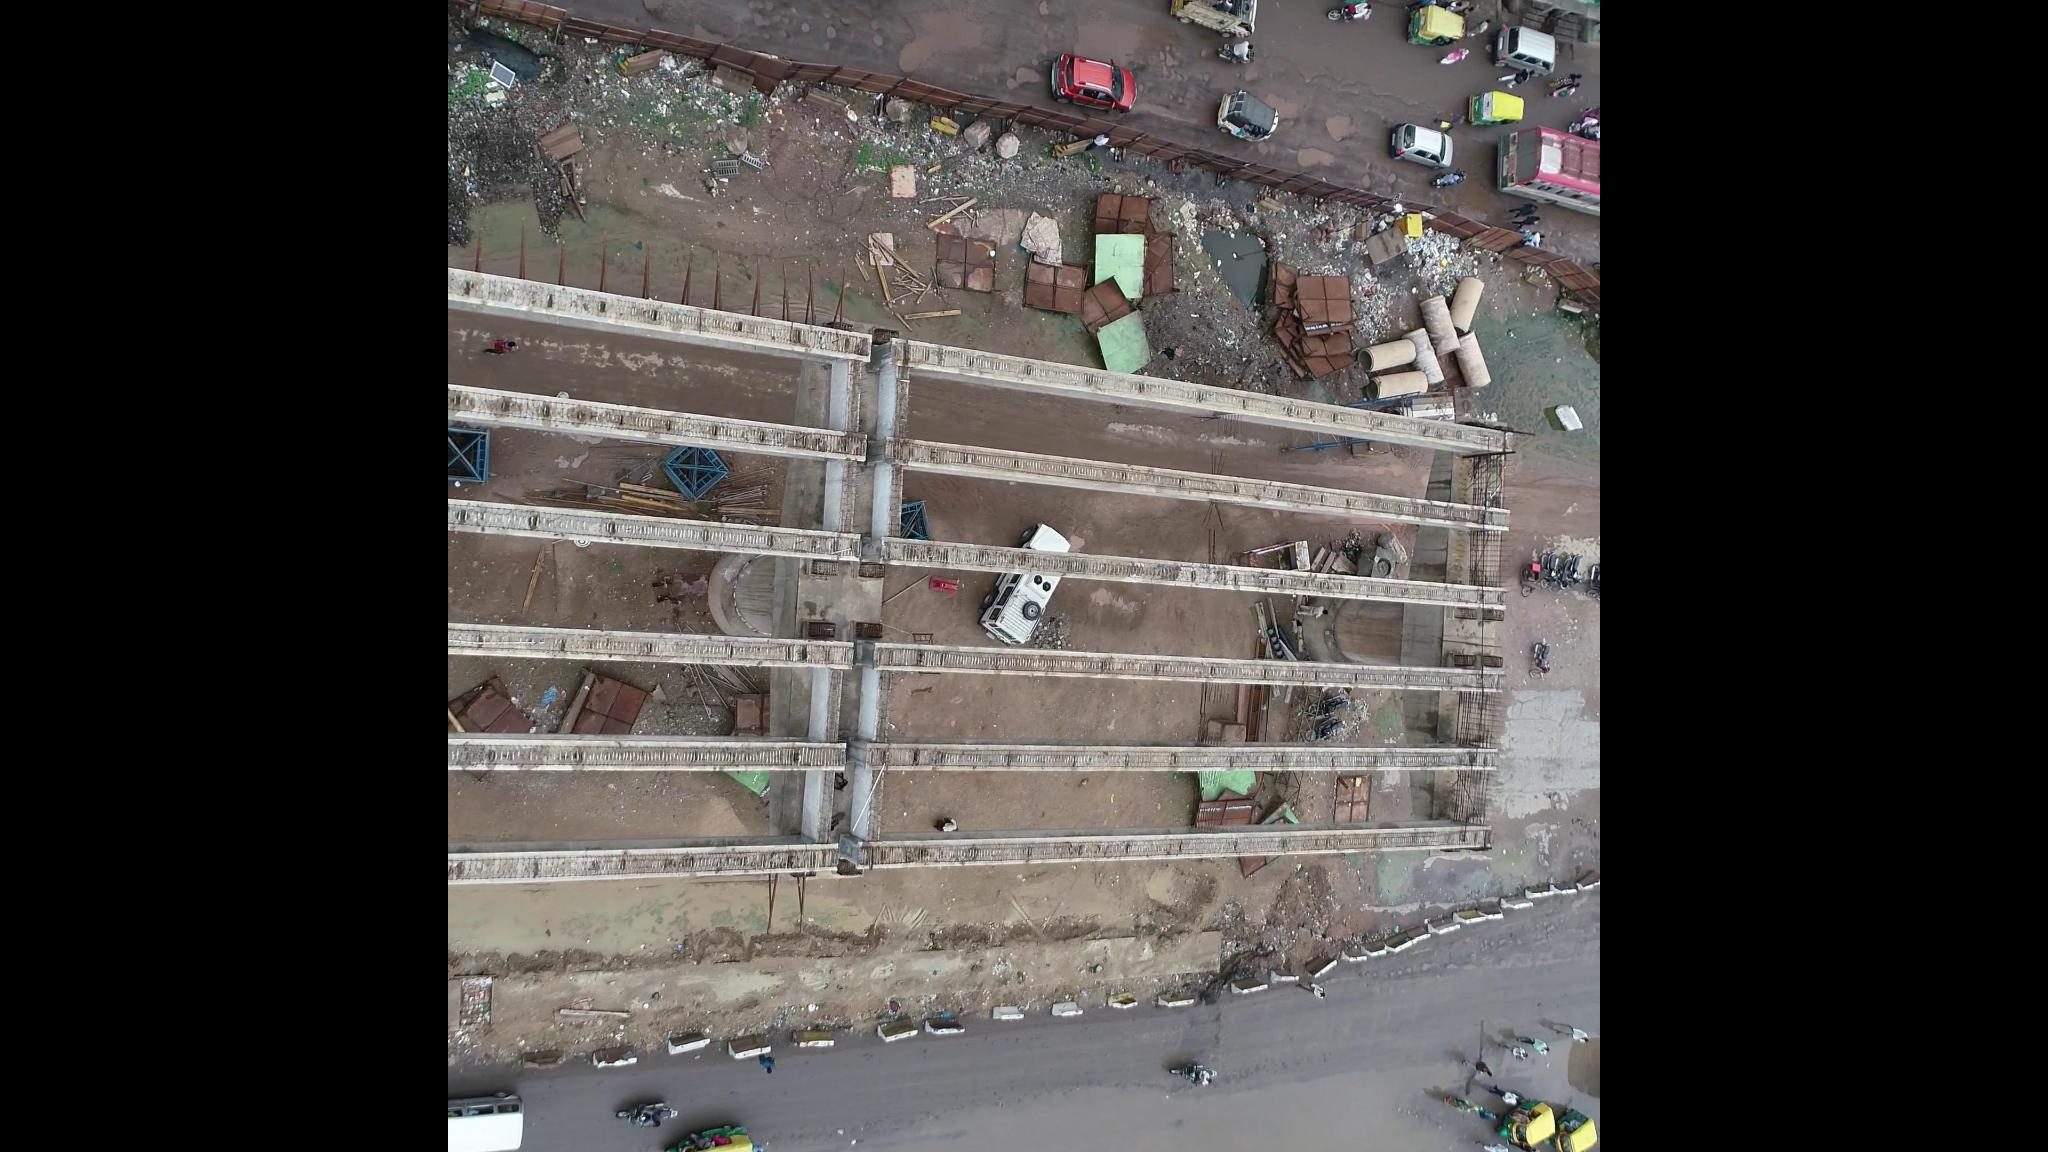Potholes: (753, 1, 907, 62), (999, 1, 1063, 98), (1294, 93, 1376, 169), (1144, 51, 1210, 115), (1350, 165, 1414, 197)
Waterlogging: (1017, 1072, 1407, 1152)
